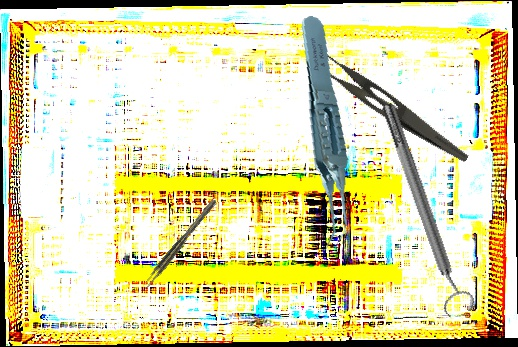Dressing Forceps: (296, 39, 480, 164)
Fixation Ring: (371, 98, 479, 320)
Tissue Forceps: (273, 15, 372, 253), (140, 198, 220, 291)
